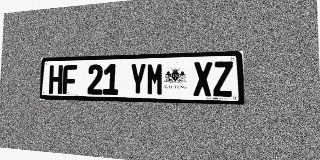1: (103, 64, 119, 95)
2: (87, 64, 103, 95)
F: (62, 65, 77, 94)
H: (49, 65, 63, 94)
M: (146, 63, 164, 96)
X: (193, 62, 212, 96)
Y: (129, 63, 146, 95)
Z: (213, 61, 233, 97)
